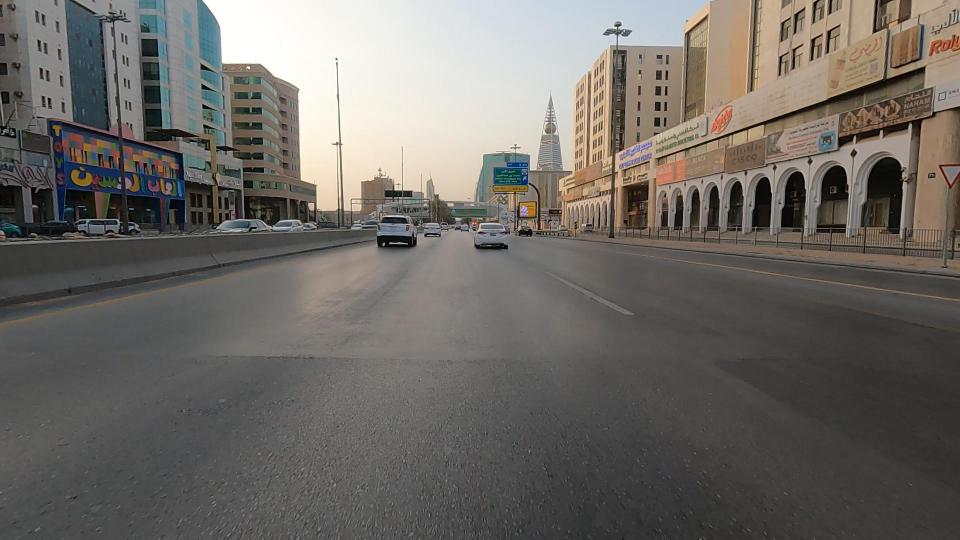BAD_BILLBOARD: (652, 65, 902, 148), (592, 146, 775, 201), (526, 137, 640, 199), (0, 109, 75, 165), (537, 176, 624, 217)
